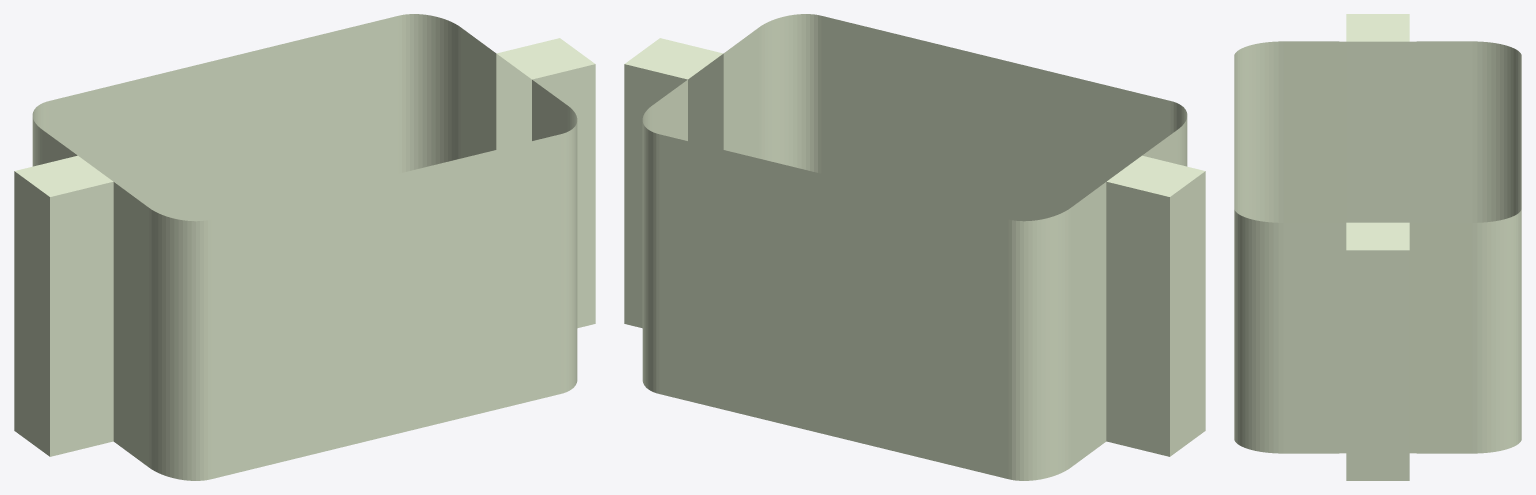
File: walls.obj
The picture shows the model from 3 angles, left to right: view 1: azimuth 30°, elevation 25°; view 2: azimuth 150°, elevation 25°; view 3: azimuth 270°, elevation 25°; orthographic projection. The views are drawn at different scales.
Visible parts, largest first — view 1: walls_Plane.001; view 2: walls_Plane.001; view 3: walls_Plane.001.
Part boxes in pixels (x1,y1,x2,y2): walls_Plane.001: (14, 14, 595, 480); walls_Plane.001: (624, 14, 1205, 480); walls_Plane.001: (1234, 14, 1521, 480).
Size of the model in its own units: 40.63 by 18.49 by 20.89.
Materials: 1 (1 with a texture image).
